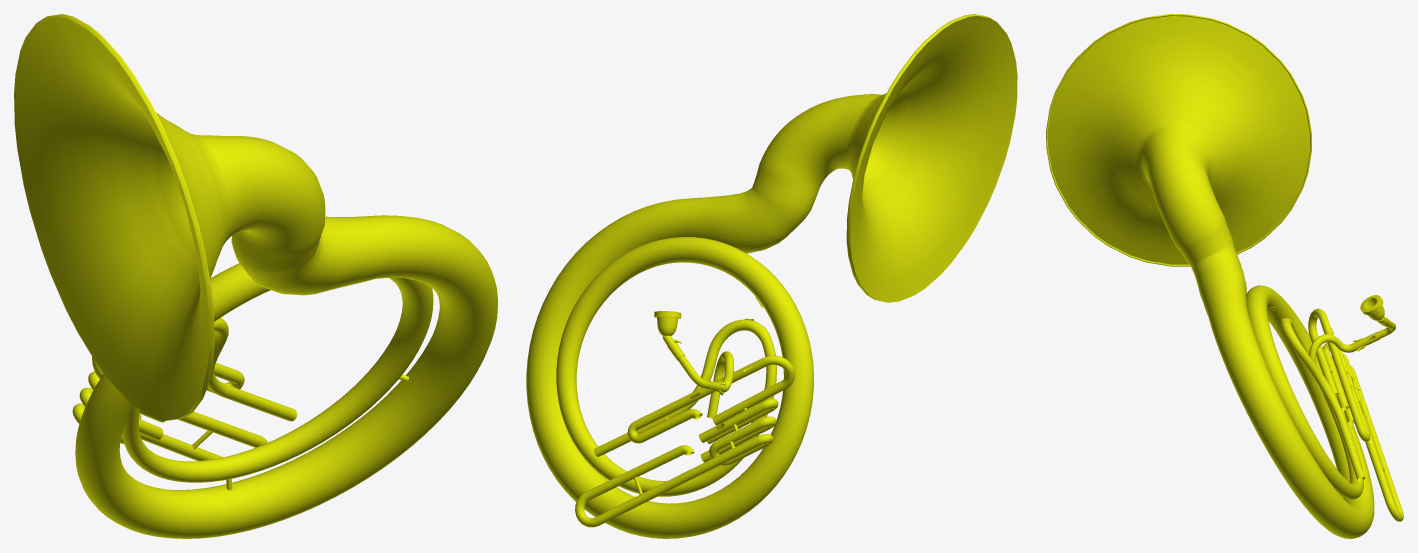
File: SousaphoneAnim.fbx
3 views of the same model, side by side, from view 1: azimuth 30°, elevation 25°; view 2: azimuth 150°, elevation 25°; view 3: azimuth 270°, elevation 25° (orthographic). The views are drawn at different scales.
Visible parts, largest first — view 1: sketchfab_export.unity_1; view 2: sketchfab_export.unity_1; view 3: sketchfab_export.unity_1.
Part boxes in pixels (<box>): sketchfab_export.unity_1: <box>14,14,497,538</box>; sketchfab_export.unity_1: <box>526,14,1017,538</box>; sketchfab_export.unity_1: <box>1046,14,1403,538</box>.
Size of the model in its own units: 1.28 by 1.3 by 1.69.
